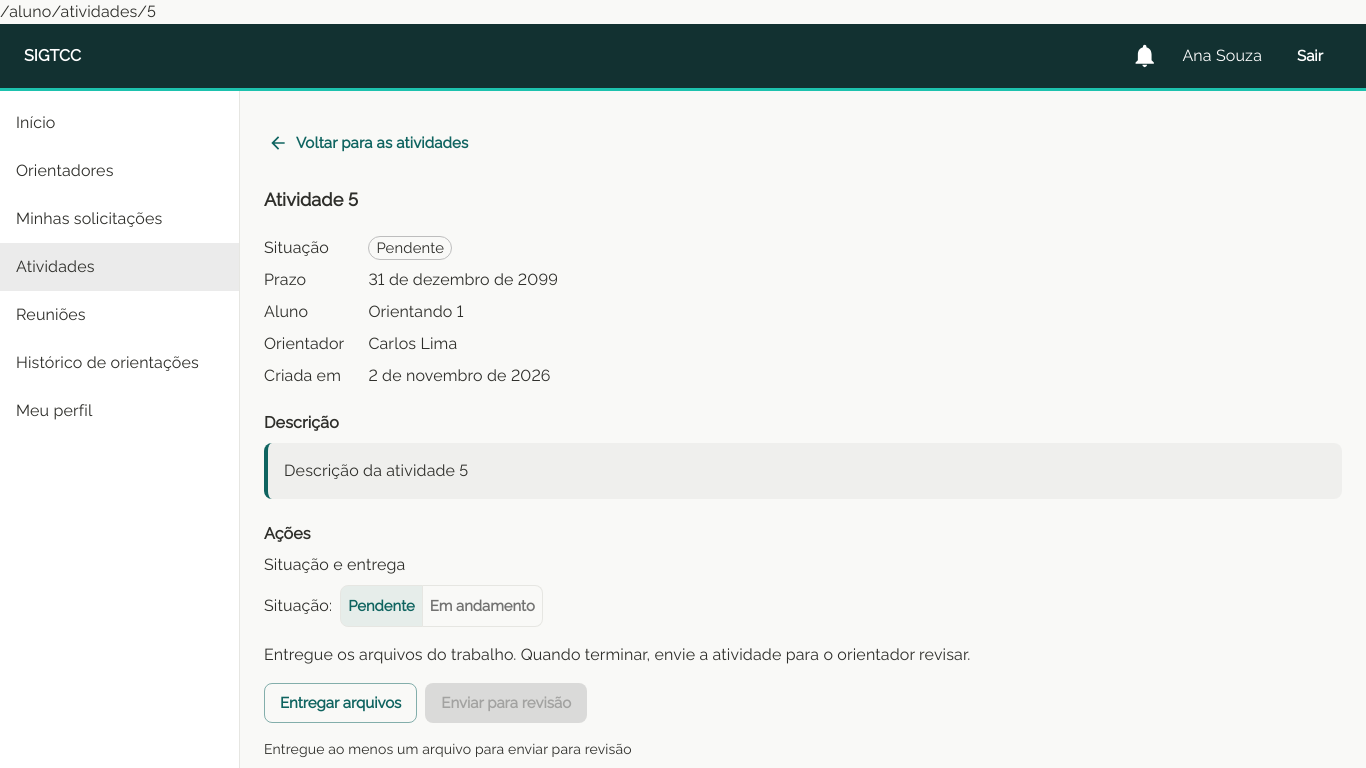
Test: Entregar arquivos: escolher e conferir › abre sem arquivos, com a entrega desabilitada
Click the button "Entregar arquivos" at (341, 703), box [264, 683, 417, 723]
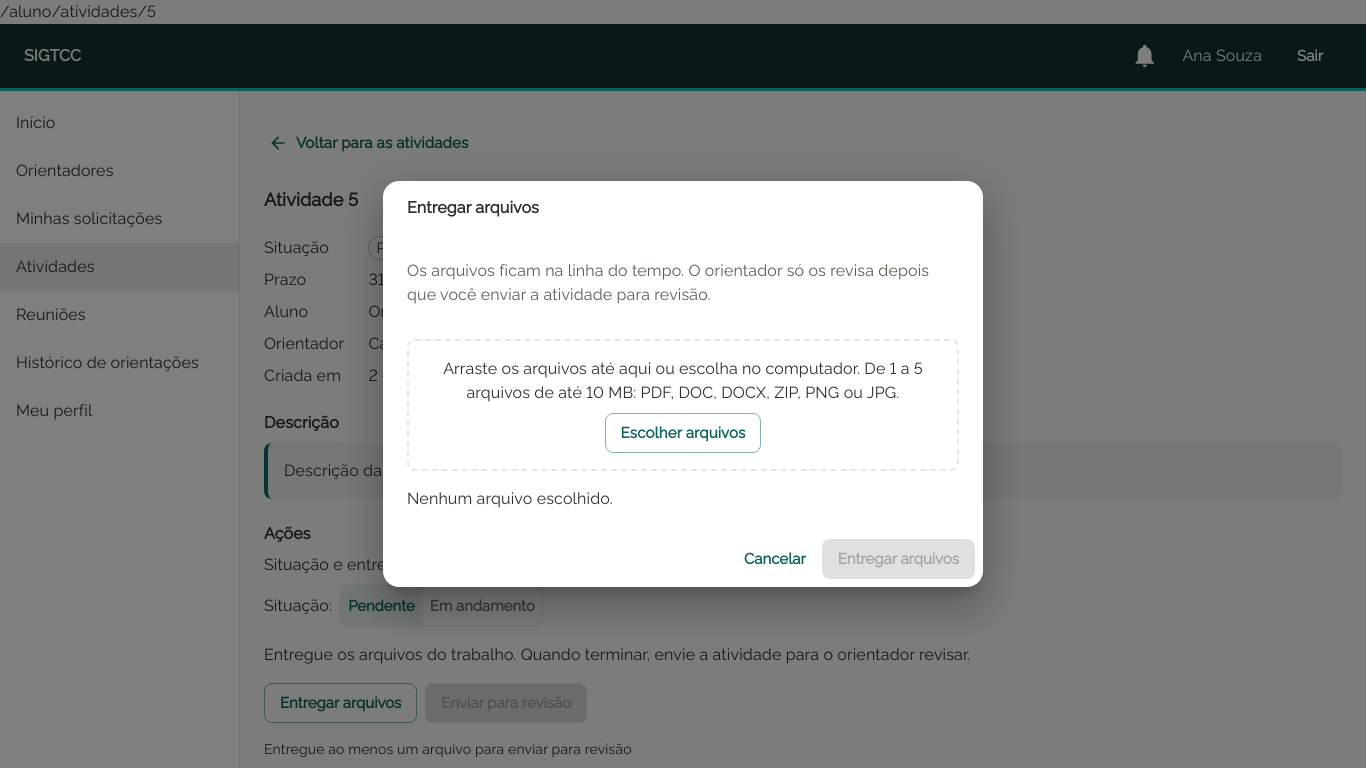
Expected: the text "Os arquivos ficam na linha do tempo. O orientador só os revisa depois que você enviar a atividade para revisão." is shown, [407, 261, 929, 304]
Expected: the text "Nenhum arquivo escolhido." is shown, [407, 489, 613, 508]
Expected: the button "Entregar arquivos" is disabled, [822, 539, 975, 579]
